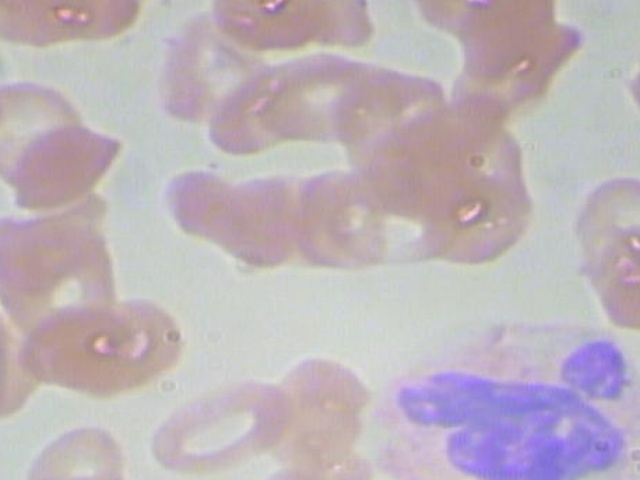RBC: (198, 37, 362, 160), (140, 1, 286, 127), (251, 351, 381, 474), (408, 149, 538, 267), (0, 204, 121, 328), (144, 372, 286, 477), (57, 286, 186, 398), (430, 0, 582, 79), (1, 118, 125, 209), (11, 299, 135, 390), (563, 170, 640, 305), (215, 168, 309, 274), (0, 73, 91, 182), (155, 161, 244, 254), (18, 415, 142, 480), (203, 0, 351, 49), (630, 14, 640, 156), (0, 41, 7, 150)
WBC: (367, 321, 640, 480)
